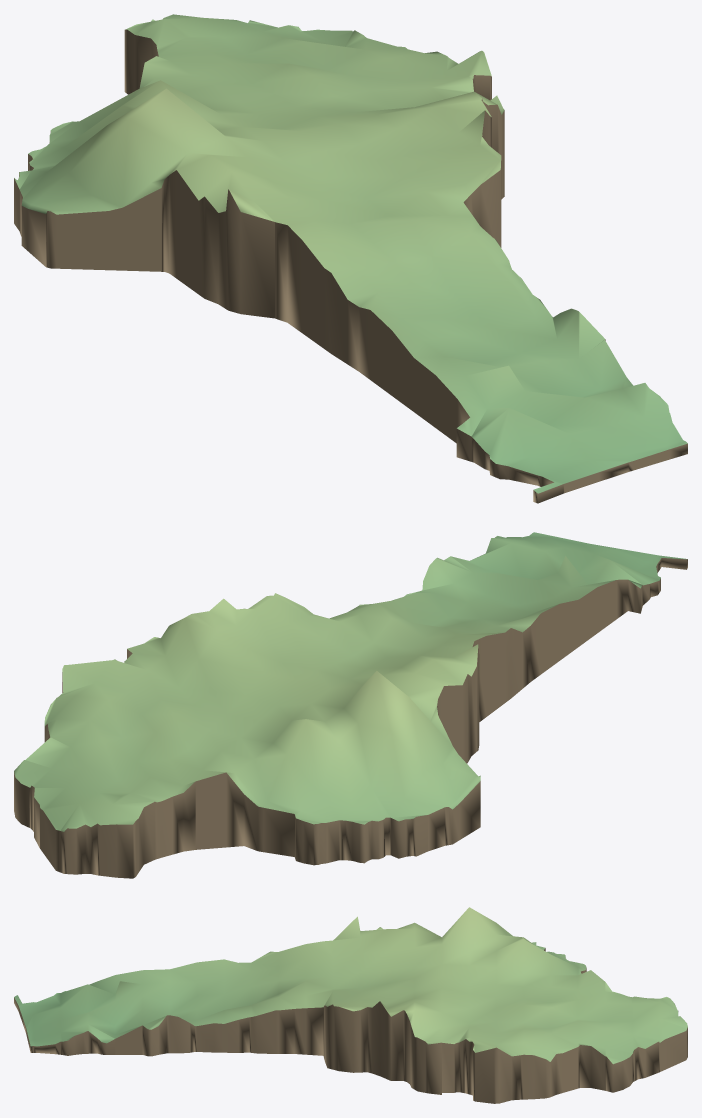
Rendered from BEN.glb.
The picture shows the model from 3 angles, top to bottom: view 1: azimuth 30°, elevation 25°; view 2: azimuth 150°, elevation 25°; view 3: azimuth 270°, elevation 25°; orthographic projection. The views are drawn at different scales.
Visible parts, largest first — view 1: BEN; view 2: BEN; view 3: BEN.
Part boxes in pixels (x1,y1,x2,y2): BEN: (14,14,687,503); BEN: (14,532,687,878); BEN: (14,907,687,1103).
Bounding box in the file's own units: 0.8996 × 0.282 × 1.84.
